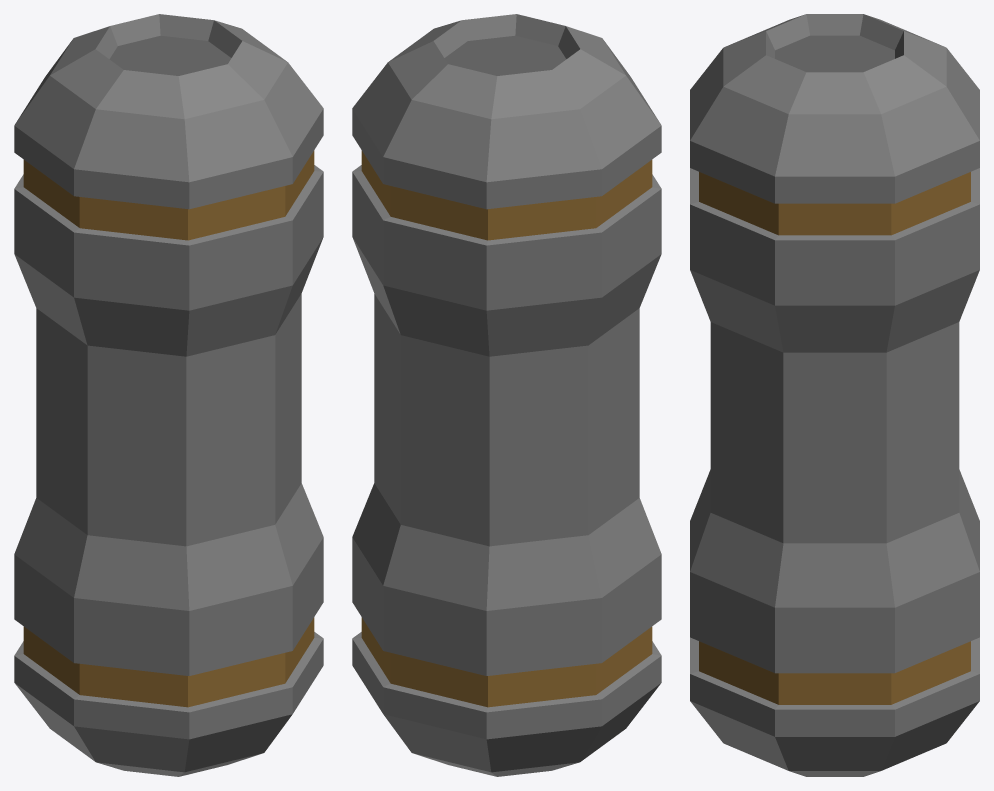
The model's file is vessel.glb.
3 views of the same model, side by side, from view 1: azimuth 30°, elevation 25°; view 2: azimuth 150°, elevation 25°; view 3: azimuth 270°, elevation 25° (orthographic).
Parts seen in each view (by area): view 1: vessel; view 2: vessel; view 3: vessel.
Boxes of the visible parts, <box> form: vessel: <box>14,14,323,776</box>; vessel: <box>352,14,661,776</box>; vessel: <box>690,14,979,776</box>.
Size of the model in its own units: 0.5966 by 1.6 by 0.5966.
